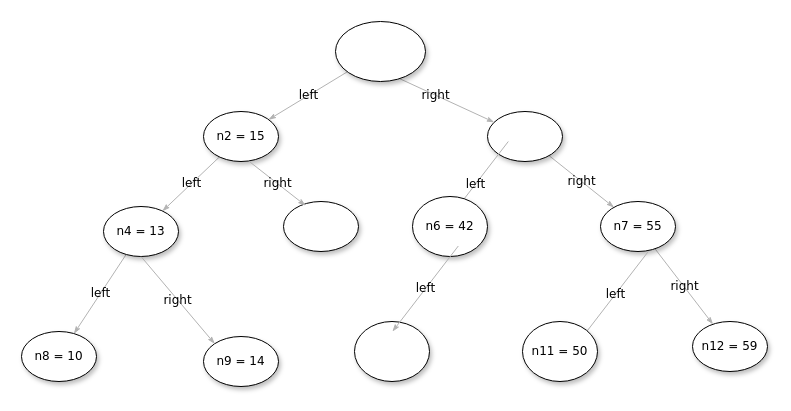
The diagram is 791 pixels wide and 411 high, and some of its shapes have lost their labels. The centre of each missing label's shape, as x and y in pixels:
n1 = 35: [381,52]
n10 = 39: [393,352]
n3 = 45: [525,137]
n5 = 19: [321,227]
